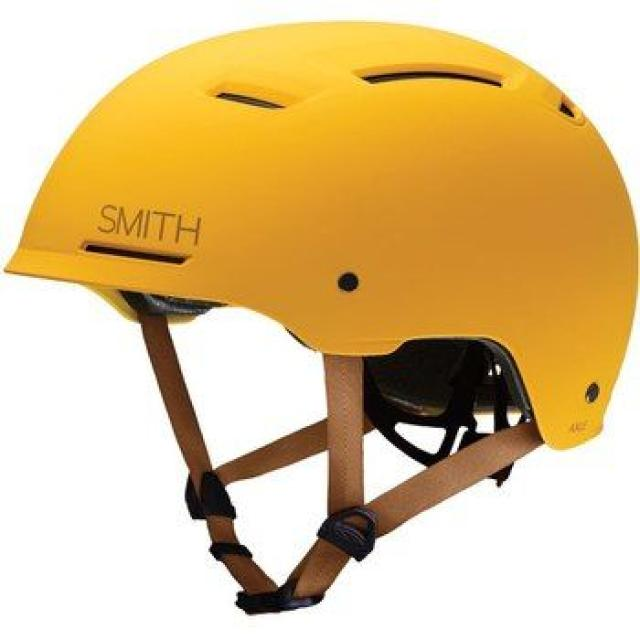Helmet: (6, 17, 640, 448)
